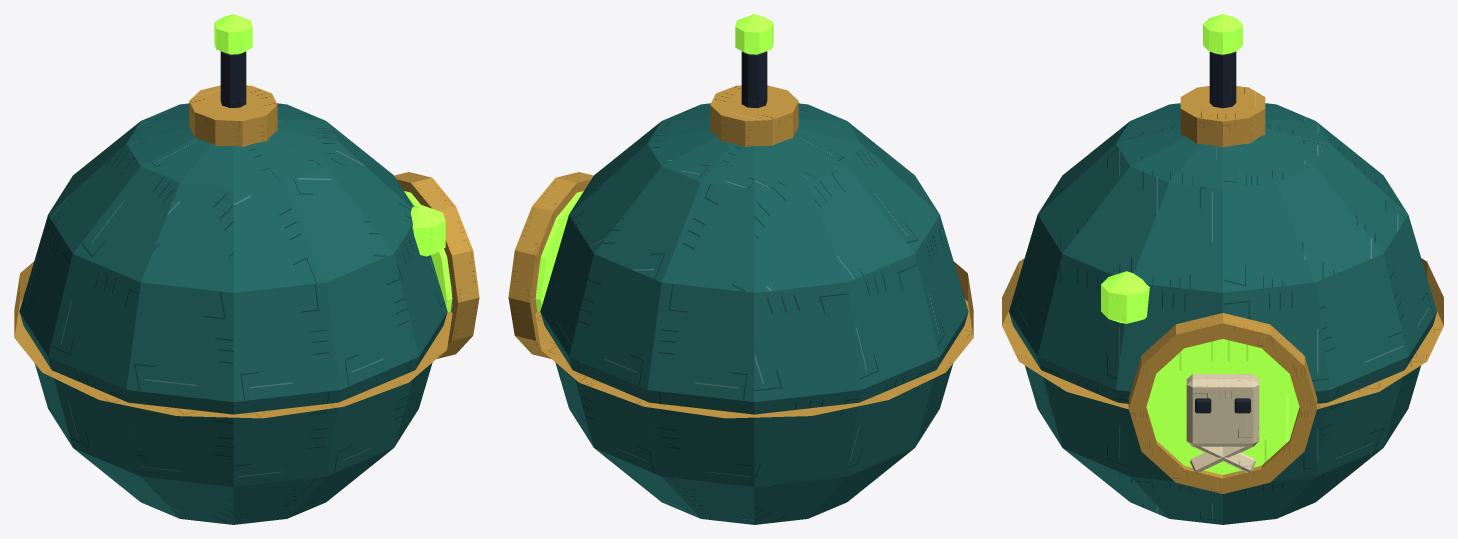
File: venom.glb
The picture shows the model from 3 angles, left to right: view 1: azimuth 30°, elevation 25°; view 2: azimuth 150°, elevation 25°; view 3: azimuth 270°, elevation 25°; orthographic projection.
Parts seen in each view (by area): view 1: body, fuse; view 2: body, fuse; view 3: body, fuse.
Part boxes in pixels (<box>): body: <box>14,85,479,524</box>; fuse: <box>214,14,252,108</box>; body: <box>508,85,973,524</box>; fuse: <box>735,14,773,108</box>; body: <box>1002,86,1443,524</box>; fuse: <box>1203,14,1242,108</box>.
Size of the model in its own units: 0.2867 by 0.3294 by 0.2683.
5 materials, 5 textured.
